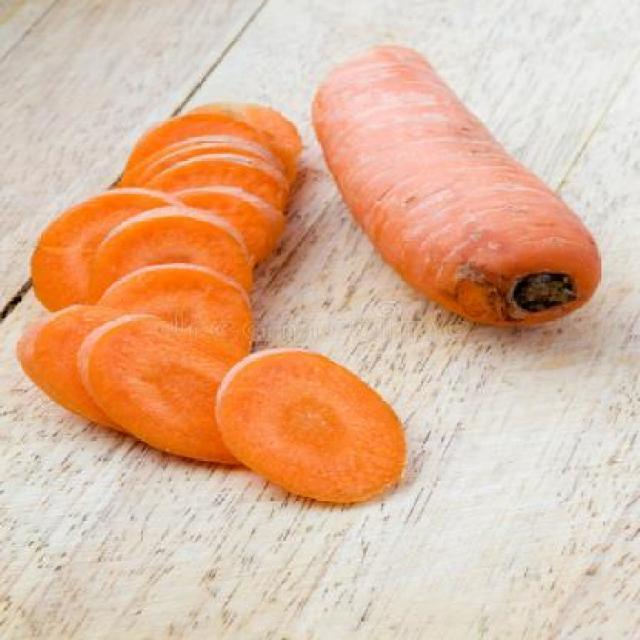carrot: (302, 43, 606, 340)
